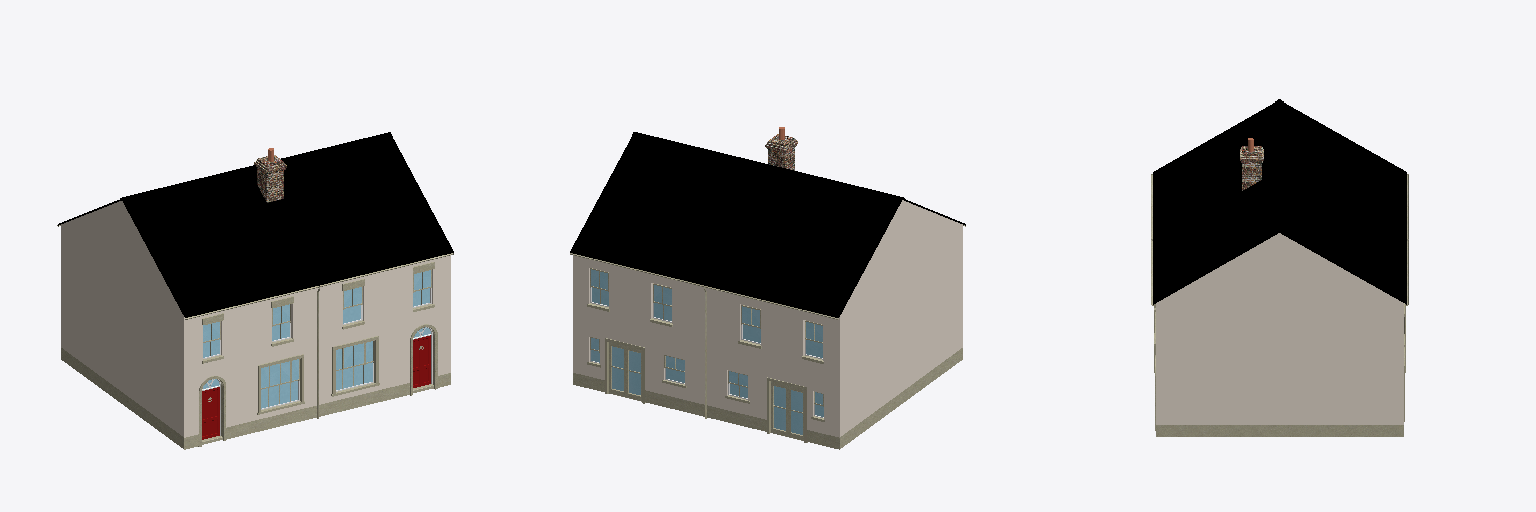
3 views of the same model, side by side, from view 1: azimuth 30°, elevation 25°; view 2: azimuth 150°, elevation 25°; view 3: azimuth 270°, elevation 25° (orthographic).
Visible parts, largest first — view 1: polySurface76_houseF; view 2: polySurface76_houseF; view 3: polySurface76_houseF.
Part boxes in pixels (x1,y1,x2,y2): polySurface76_houseF: (57, 132, 453, 449); polySurface76_houseF: (570, 127, 965, 449); polySurface76_houseF: (1151, 99, 1408, 436).
Size of the model in its own units: 4.45 by 3.71 by 3.7.
Materials: 16 (7 with a texture image).